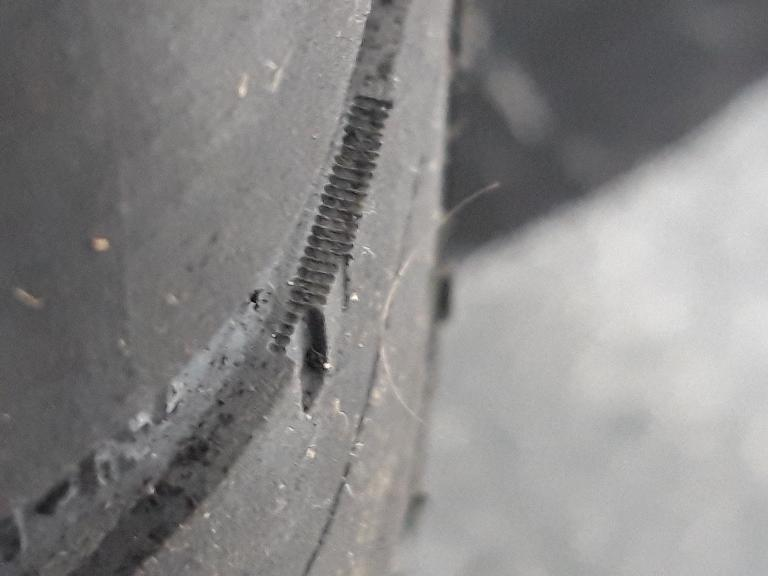temoin:25: (252, 242, 364, 426)
